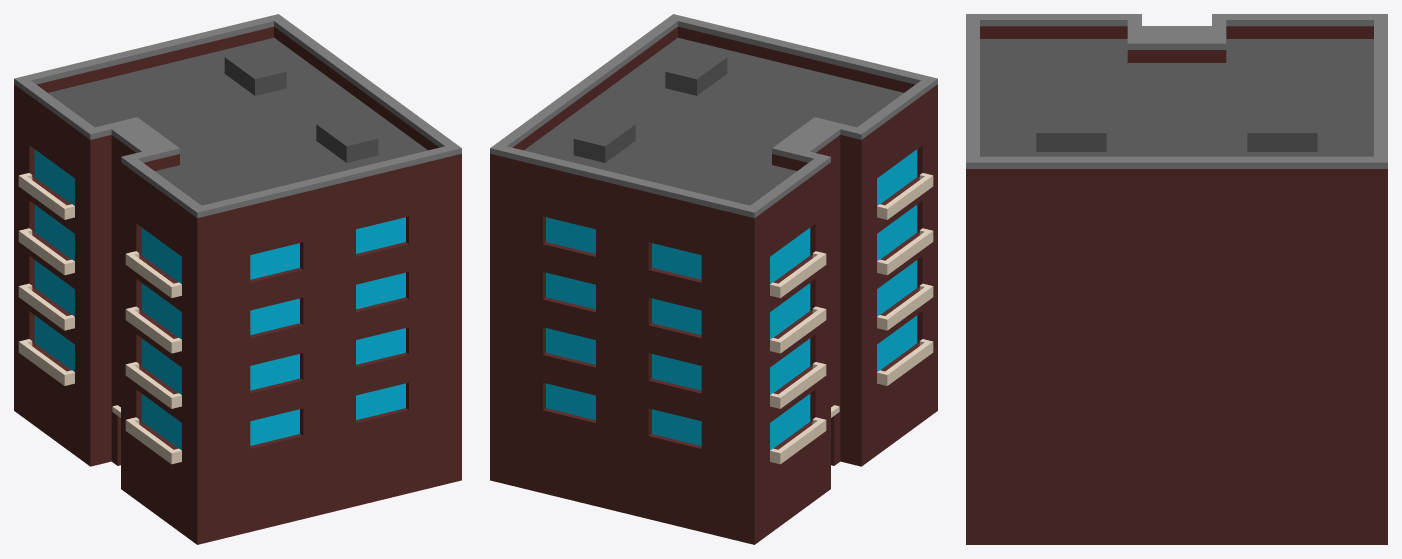
Rendered from House04.obj.
3 views of the same model, side by side, from view 1: azimuth 30°, elevation 25°; view 2: azimuth 150°, elevation 25°; view 3: azimuth 270°, elevation 25° (orthographic). The views are drawn at different scales.
Bounding box in the file's own units: 5.2 × 6 × 6.
1 material, 1 textured.
